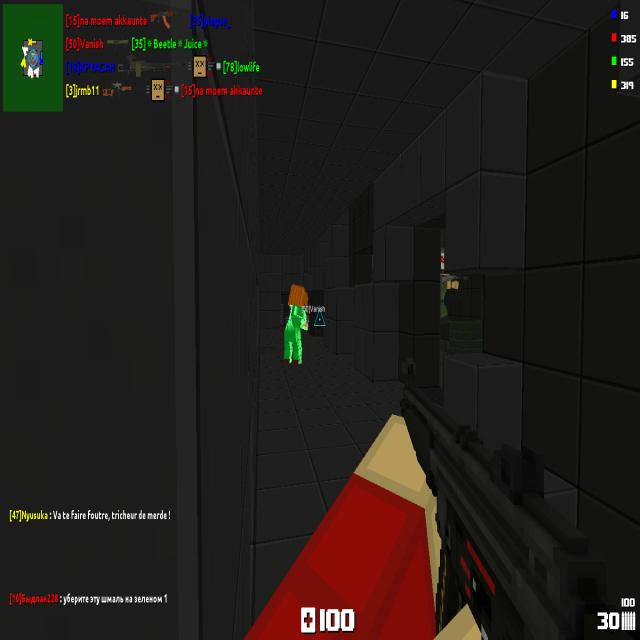enemy: (284, 283, 308, 363), (440, 251, 459, 321)
